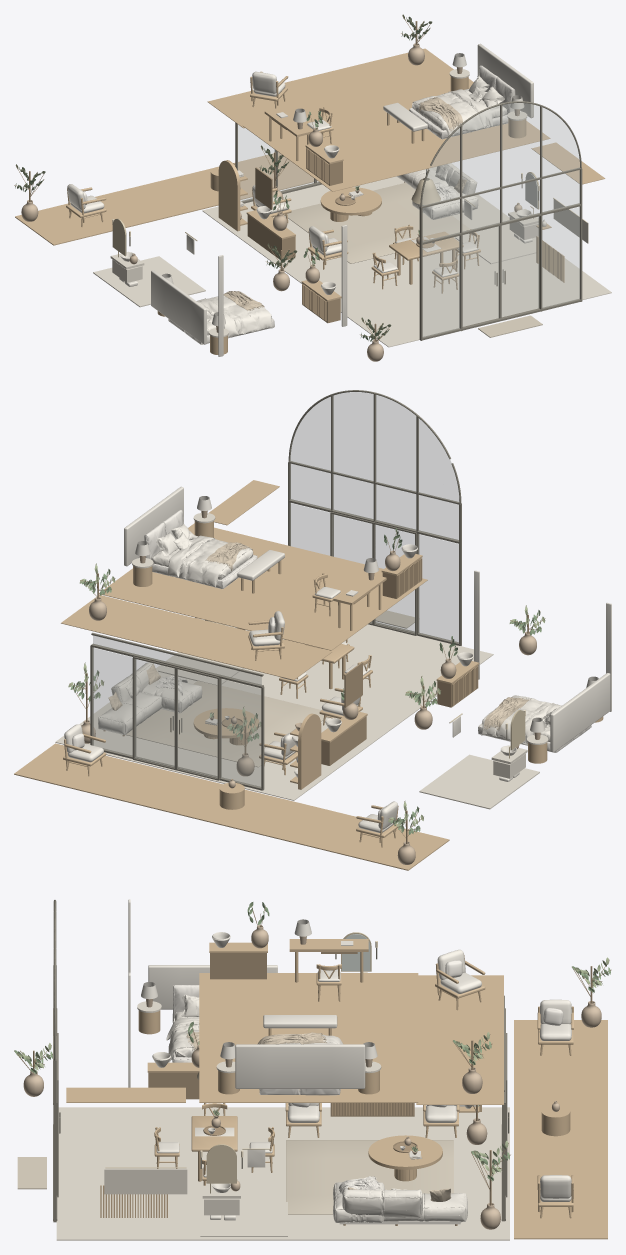
The model's file is earth.glb.
3 views of the same model, one above another, from view 1: azimuth 30°, elevation 25°; view 2: azimuth 150°, elevation 25°; view 3: azimuth 270°, elevation 25° (orthographic). The views are drawn at different scales.
Visible parts, largest first — view 1: Entry | fitted finishes (×5), Living | fitted finishes (×4), Loft bedroom | fitted finishes (×3), Terrace | fitted finishes, Shelter of Sky bed · draped duvet and sculpted loose pillows (×2), Balcony | fitted finishes, Natural woven living rug, Guest bedroom | fitted finishes (×3), Guest bathroom | fitted finishes (×2), Main bathroom | fitted finishes (×2), Low oak lounge chair with ivory upholstery (×3), Olive branches in an aged ceramic urn (×4) (+10 smaller); view 2: Entry | fitted finishes (×6), Living | fitted finishes (×4), Loft bedroom | fitted finishes (×3), Terrace | fitted finishes, Balcony | fitted finishes, Shelter of Sky bed · draped duvet and sculpted loose pillows (×2), Natural woven living rug, Guest bedroom | fitted finishes (×3), Guest bathroom | fitted finishes (×2), Olive branches in an aged ceramic urn (×6), Low oak lounge chair with ivory upholstery (×4), Soft ivory upholstered lounge with loose cushions and draped (+6 smaller); view 3: Living | fitted finishes (×2), Loft bedroom | fitted finishes (×3), Terrace | fitted finishes, Balcony | fitted finishes, Natural woven living rug, Low oak lounge chair with ivory upholstery (×5), Soft ivory upholstered lounge with loose cushions and draped, Main bathroom | fitted finishes (×2), Olive branches in an aged ceramic urn (×5), Guest bedroom | fitted finishes (×3), Kitchen | fitted finishes (×2), Shelter of Sky bed · draped duvet and sculpted loose pillows (×2) (+10 smaller).
Boxes of the visible parts, <box> form: Entry | fitted finishes (×5): <box>235,101,582,340</box>; Living | fitted finishes (×4): <box>202,160,611,347</box>; Loft bedroom | fitted finishes (×3): <box>242,43,605,191</box>; Terrace | fitted finishes: <box>15,152,317,245</box>; Shelter of Sky bed · draped duvet and sculpted loose pillows (×2): <box>168,65,515,344</box>; Balcony | fitted finishes: <box>207,48,453,128</box>; Natural woven living rug: <box>283,182,469,263</box>; Guest bedroom | fitted finishes (×3): <box>151,225,347,356</box>; Guest bathroom | fitted finishes (×2): <box>93,218,205,307</box>; Main bathroom | fitted finishes (×2): <box>455,172,539,263</box>; Low oak lounge chair with ivory upholstery (×3): <box>66,71,348,269</box>; Olive branches in an aged ceramic urn (×4): <box>14,14,432,361</box>; Entry | fitted finishes (×6): <box>90,390,461,790</box>; Living | fitted finishes (×4): <box>55,624,493,800</box>; Loft bedroom | fitted finishes (×3): <box>99,480,427,650</box>; Terrace | fitted finishes: <box>14,743,449,870</box>; Balcony | fitted finishes: <box>61,595,331,680</box>; Shelter of Sky bed · draped duvet and sculpted loose pillows (×2): <box>144,509,591,752</box>; Natural woven living rug: <box>126,681,328,767</box>; Guest bedroom | fitted finishes (×3): <box>436,570,611,752</box>; Guest bathroom | fitted finishes (×2): <box>419,710,539,809</box>; Olive branches in an aged ceramic urn (×6): <box>68,563,545,864</box>; Low oak lounge chair with ivory upholstery (×4): <box>63,611,399,847</box>; Soft ivory upholstered lounge with loose cushions and draped: <box>98,662,202,736</box>; Living | fitted finishes (×2): <box>56,1103,509,1240</box>; Loft bedroom | fitted finishes (×3): <box>66,902,418,1102</box>; Terrace | fitted finishes: <box>514,1020,607,1239</box>; Balcony | fitted finishes: <box>416,975,503,1104</box>; Natural woven living rug: <box>286,1140,453,1214</box>; Low oak lounge chair with ivory upholstery (×5): <box>285,949,573,1218</box>; Soft ivory upholstered lounge with loose cushions and draped: <box>333,1176,467,1225</box>; Main bathroom | fitted finishes (×2): <box>200,1144,287,1236</box>; Olive branches in an aged ceramic urn (×5): <box>14,957,611,1229</box>; Guest bedroom | fitted finishes (×3): <box>128,899,277,1099</box>; Kitchen | fitted finishes (×2): <box>100,1167,187,1217</box>; Shelter of Sky bed · draped duvet and sculpted loose pillows (×2): <box>166,985,342,1095</box>.
Bounding box in the file's own units: 10.37 × 5.73 × 11.74.
